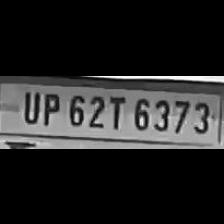2: (86, 90, 106, 128)
3: (189, 96, 209, 134), (152, 95, 170, 131)
6: (64, 90, 84, 127), (129, 94, 149, 130)
7: (170, 95, 188, 133)
P: (39, 88, 61, 124)
T: (106, 92, 127, 130)
U: (20, 86, 40, 124)
